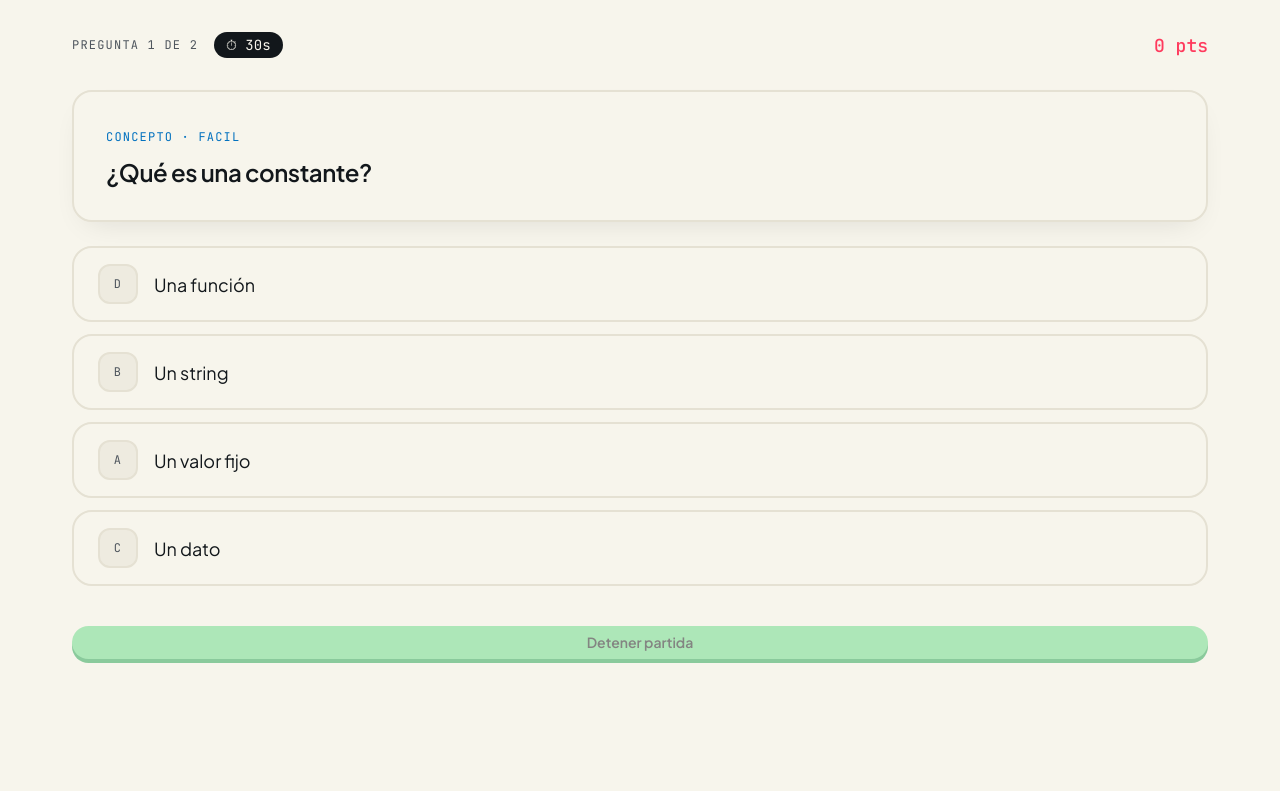
Test case: Quiz - detener partida › continuar jugando cierra el modal sin guardar la partida
// Se responde para habilitar la detencion y abrir la confirmacion.
Click the button "A Un valor fijo" at [118, 460], box [72,422,1208,498]
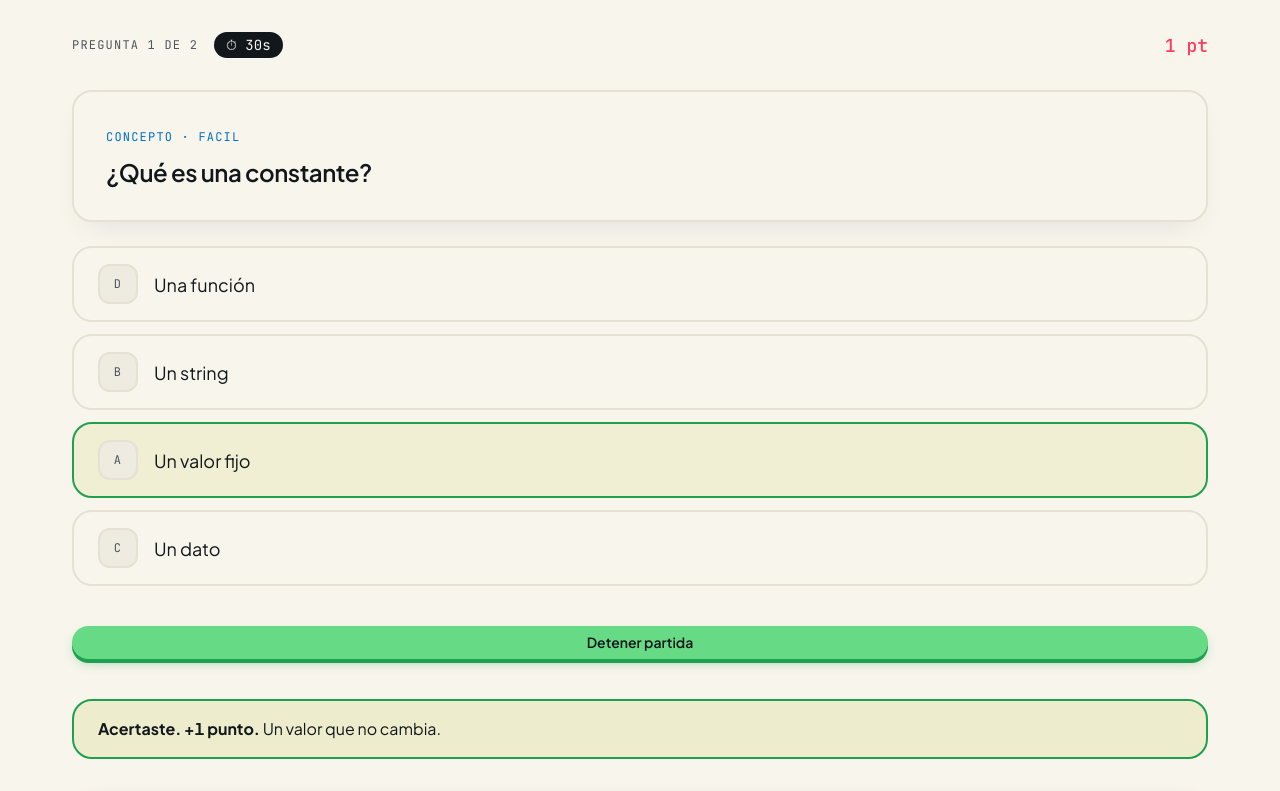
Click the button "Detener partida" at [640, 643], box [72,626,1208,659]
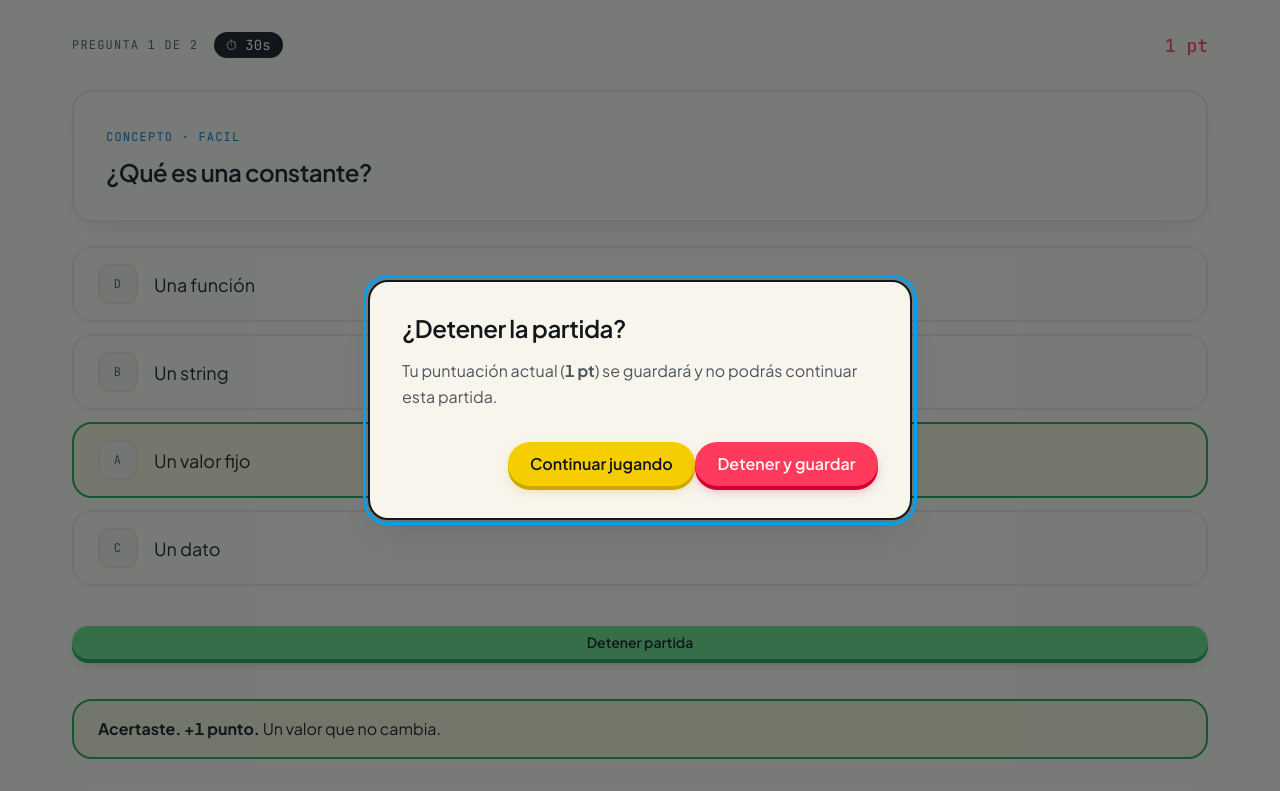
Expected: the dialog is shown, [368,280,912,520]
// Cancelar cierra el modal y no escribe nada en el historial.
Click the button "Continuar jugando" at [601, 464], box [508,442,695,486]
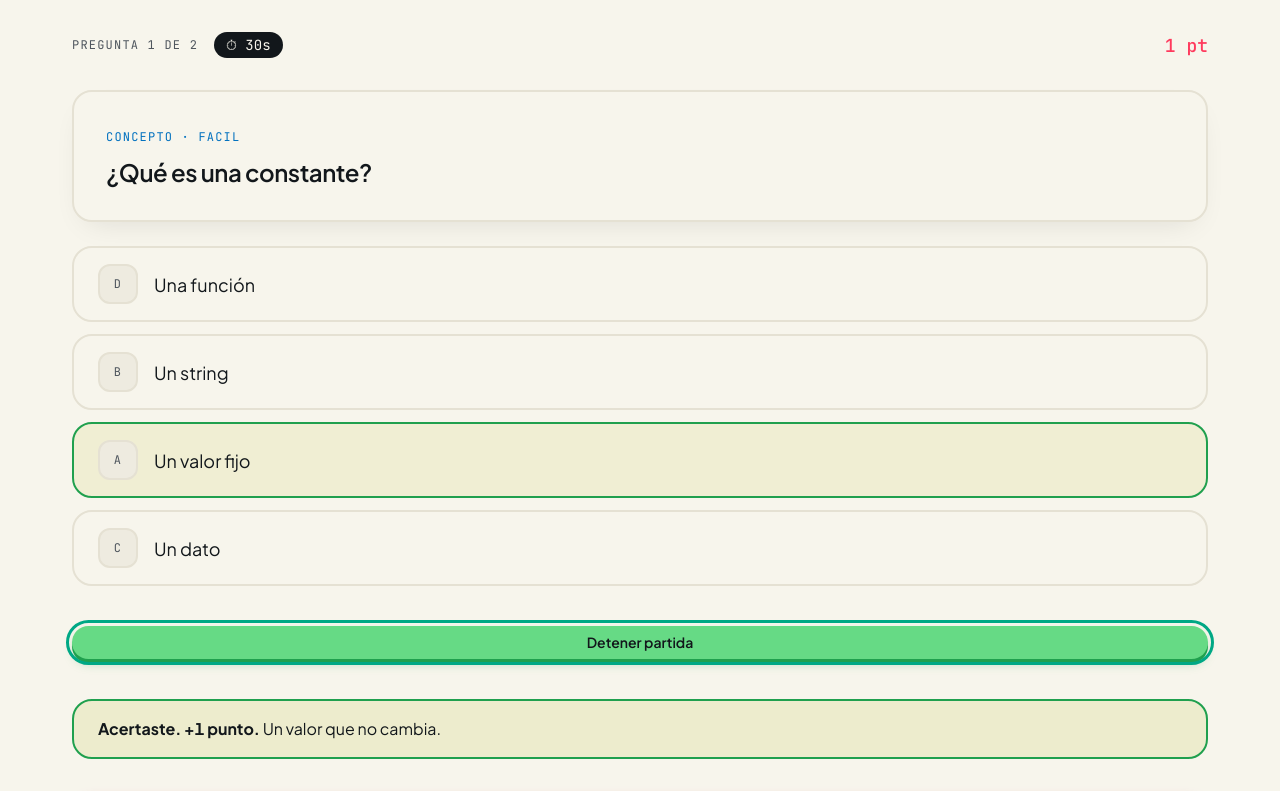
Expected: the dialog is gone
